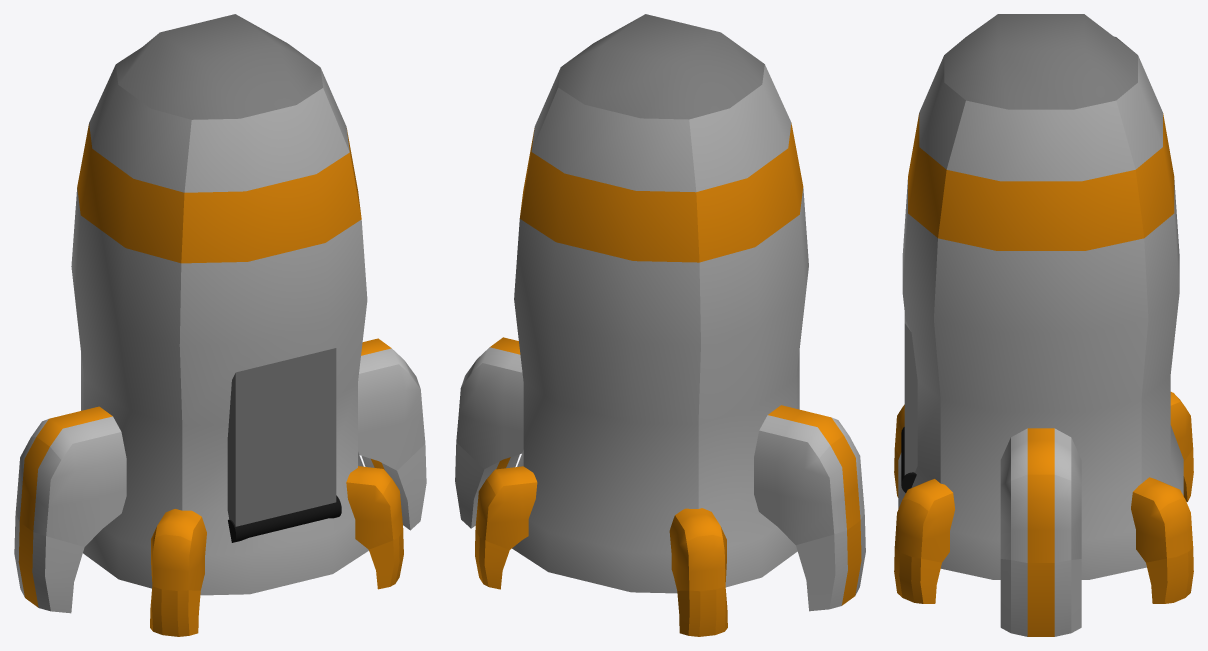
Rendered from Rocket.fbx.
3 views of the same model, side by side, from view 1: azimuth 30°, elevation 25°; view 2: azimuth 150°, elevation 25°; view 3: azimuth 270°, elevation 25° (orthographic).
Visible parts, largest first — view 1: pCube4, pCube5; view 2: pCube4; view 3: pCube4, pCube5.
Part boxes in pixels (<box>): pCube4: <box>14,14,426,636</box>; pCube5: <box>227,348,341,542</box>; pCube4: <box>455,14,865,636</box>; pCube4: <box>894,14,1193,636</box>; pCube5: <box>901,313,917,492</box>.
Size of the model in its own units: 2.26 by 2.87 by 1.52.
